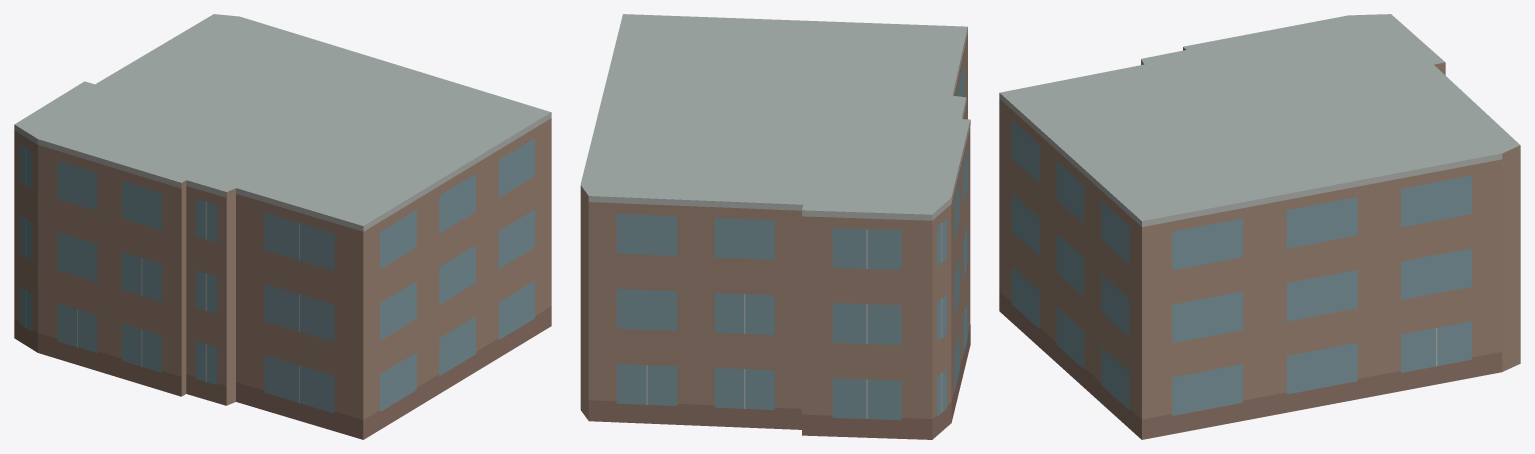
The model's file is survey-upis-32582928.glb.
3 renders of one model, left to right at view 1: azimuth 30°, elevation 25°; view 2: azimuth 150°, elevation 25°; view 3: azimuth 270°, elevation 25°, orthographic. The views are drawn at different scales.
Visible parts, largest first — view 1: survey-upis-32582928.tmp; view 2: survey-upis-32582928.tmp; view 3: survey-upis-32582928.tmp.
Part boxes in pixels (x1=…): survey-upis-32582928.tmp: x1=14, y1=14, x2=551, y2=439; survey-upis-32582928.tmp: x1=580, y1=14, x2=970, y2=439; survey-upis-32582928.tmp: x1=999, y1=14, x2=1520, y2=439.
Size of the model in its own units: 18.52 by 9.1 by 19.67.
